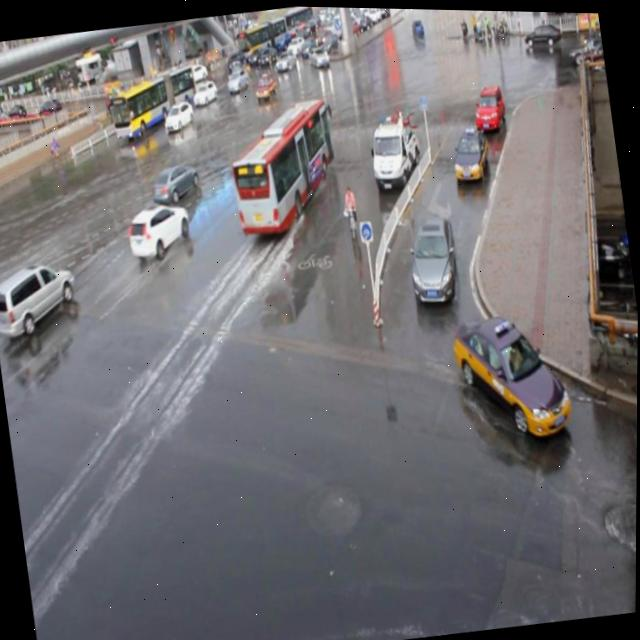bus: (364, 110, 423, 190)
car: (448, 301, 574, 443), (0, 256, 82, 341), (402, 210, 462, 305), (126, 199, 193, 261), (447, 121, 492, 181), (149, 159, 203, 206), (469, 80, 506, 132), (162, 100, 196, 132), (130, 97, 159, 129), (191, 78, 220, 106), (253, 71, 279, 101), (224, 67, 251, 93)
van: (222, 92, 343, 237), (105, 59, 202, 144)
